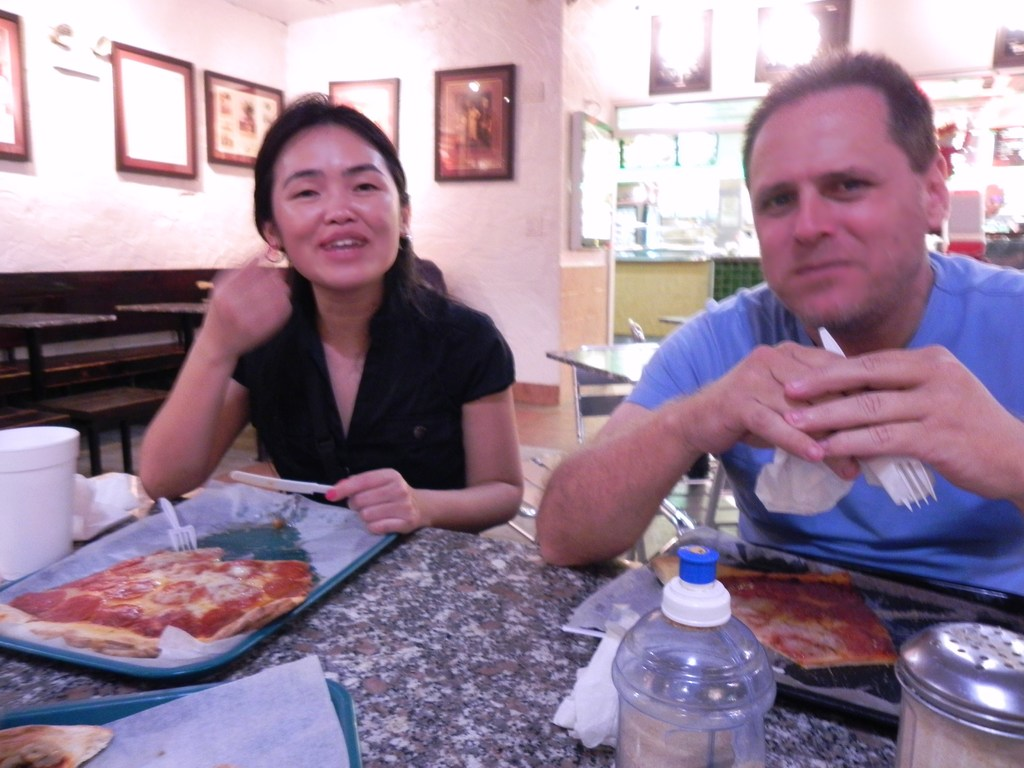Pizza: (9, 510, 352, 679)
